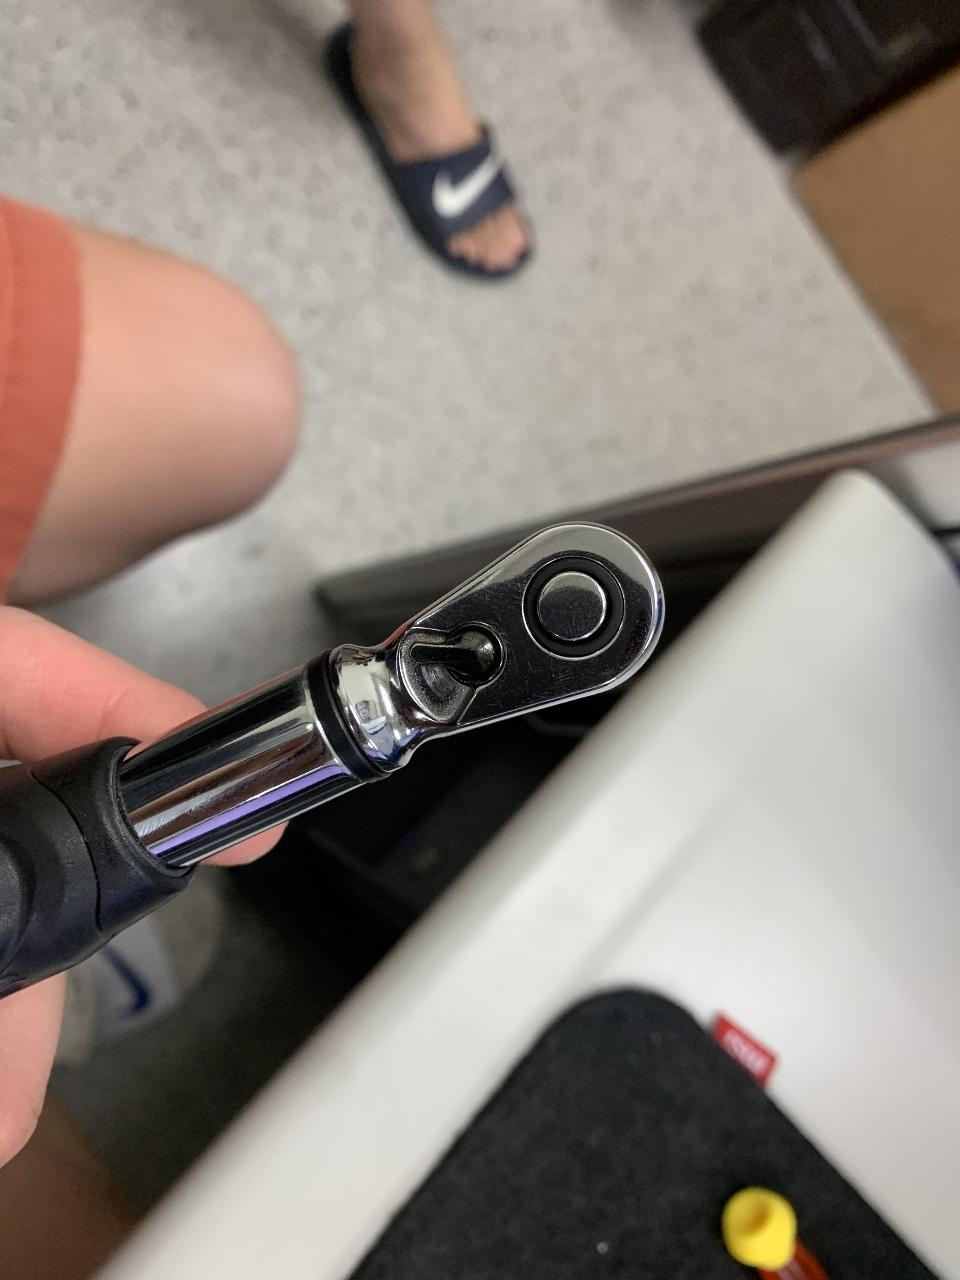Tool: (329, 518, 670, 784)
